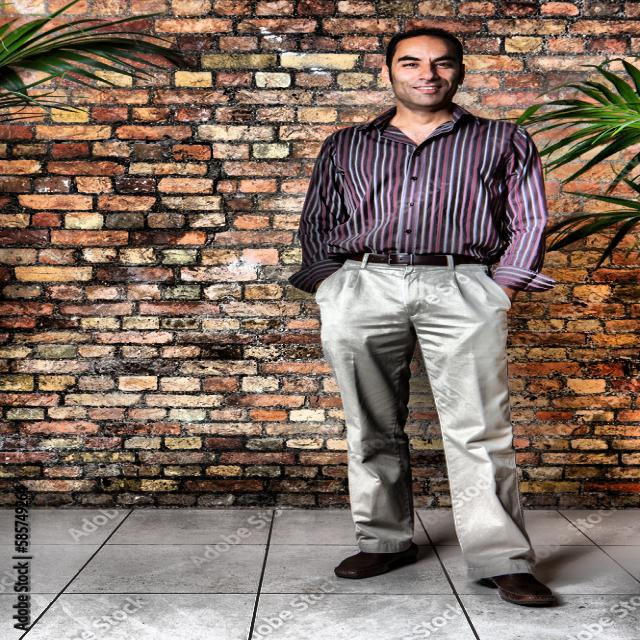Human: (254, 18, 602, 640)
